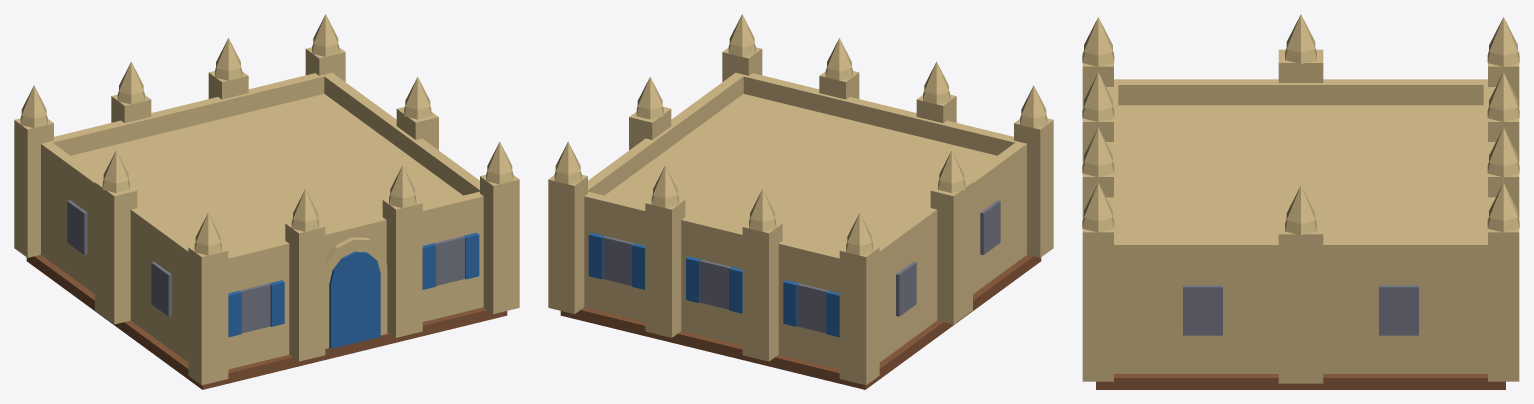
Rendered from house-1x1-1f-banco-a.glb.
3 renders of one model, left to right at view 1: azimuth 30°, elevation 25°; view 2: azimuth 150°, elevation 25°; view 3: azimuth 270°, elevation 25°, orthographic. The views are drawn at different scales.
Visible parts, largest first — view 1: house-1x1-1f-banco-a; view 2: house-1x1-1f-banco-a; view 3: house-1x1-1f-banco-a.
Boxes of the visible parts, left/top/right/bottom form: house-1x1-1f-banco-a: left=14, top=14, right=519, bottom=389; house-1x1-1f-banco-a: left=548, top=14, right=1053, bottom=389; house-1x1-1f-banco-a: left=1082, top=14, right=1519, bottom=389.
Bounding box in the file's own units: 0.9925 × 0.505 × 0.9814.
1 material, 1 textured.
